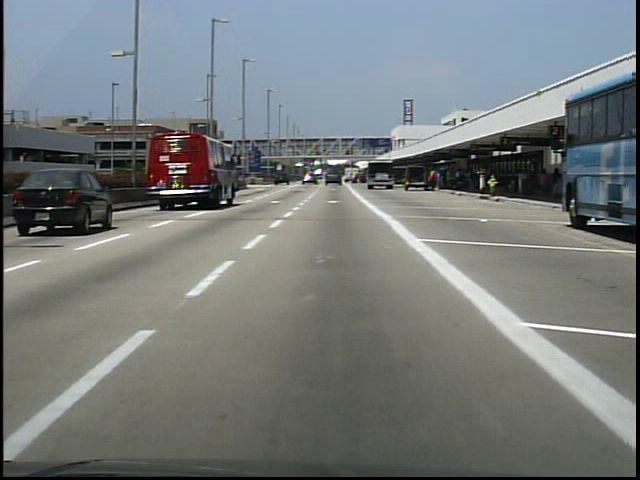person: (431, 173, 440, 196)
